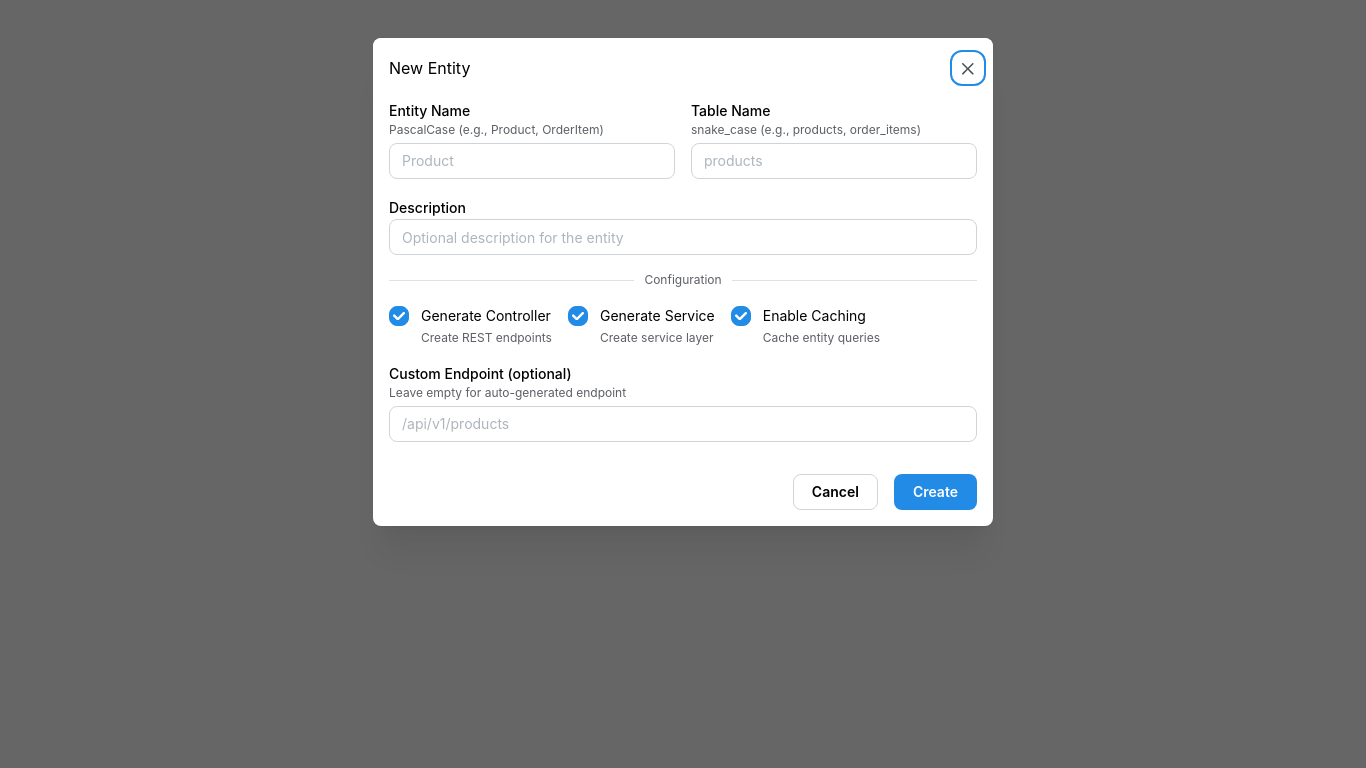
Test: EntityForm › Form Validation › should show error when entity name is not PascalCase
In the field labelled "Entity Name": (532, 161) [389,143,675,179], type "invalid_name"
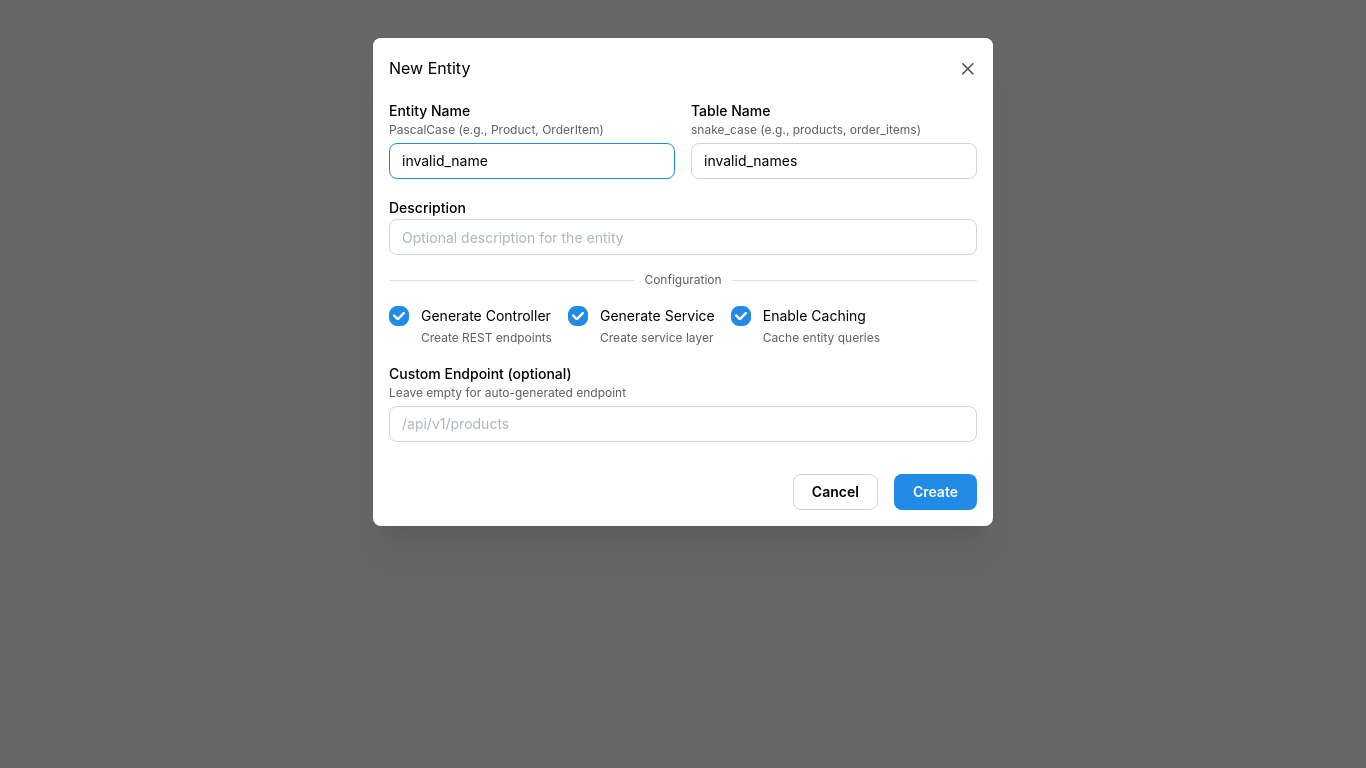
Click the button "Create": (935, 492) [894,474,977,510]
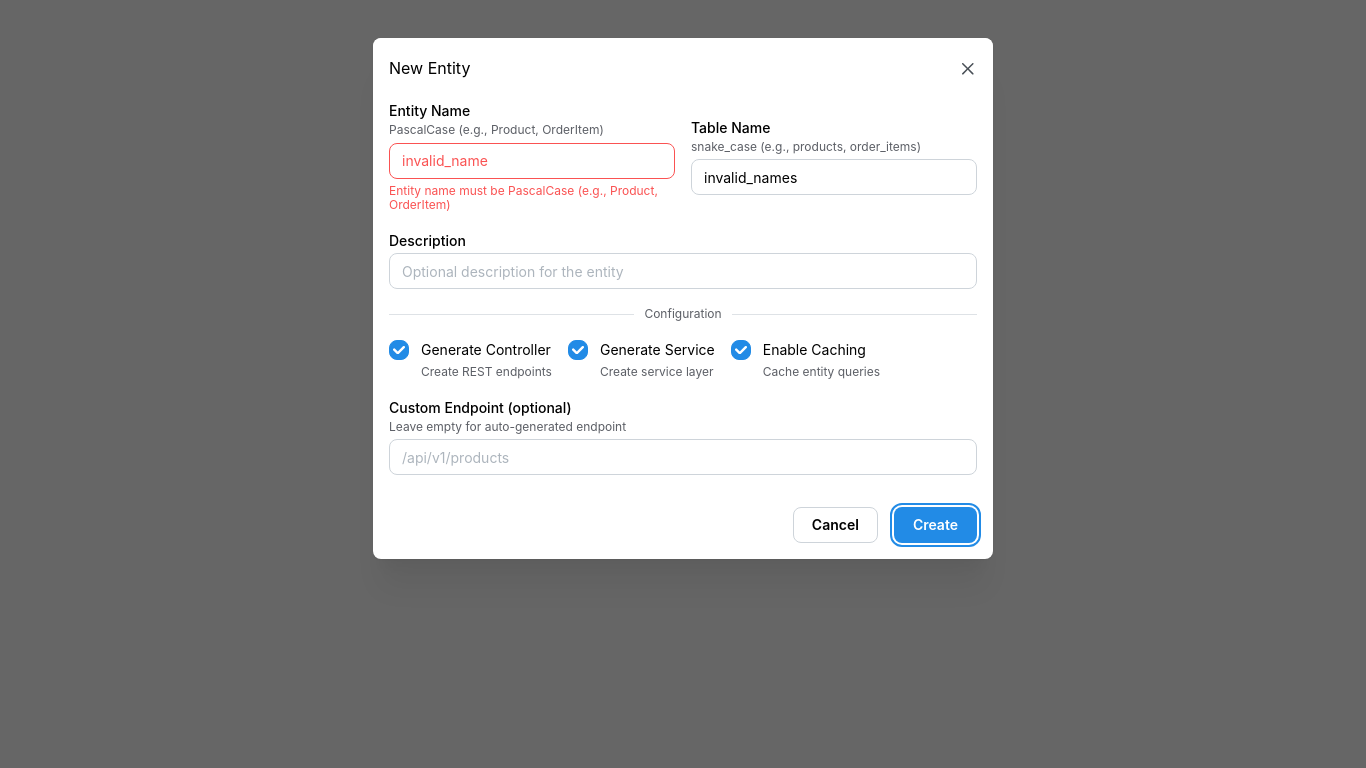
expect the text "Entity name must be PascalCase (e.g., Product, OrderItem)" is shown: met, box [389,184,675,212]
